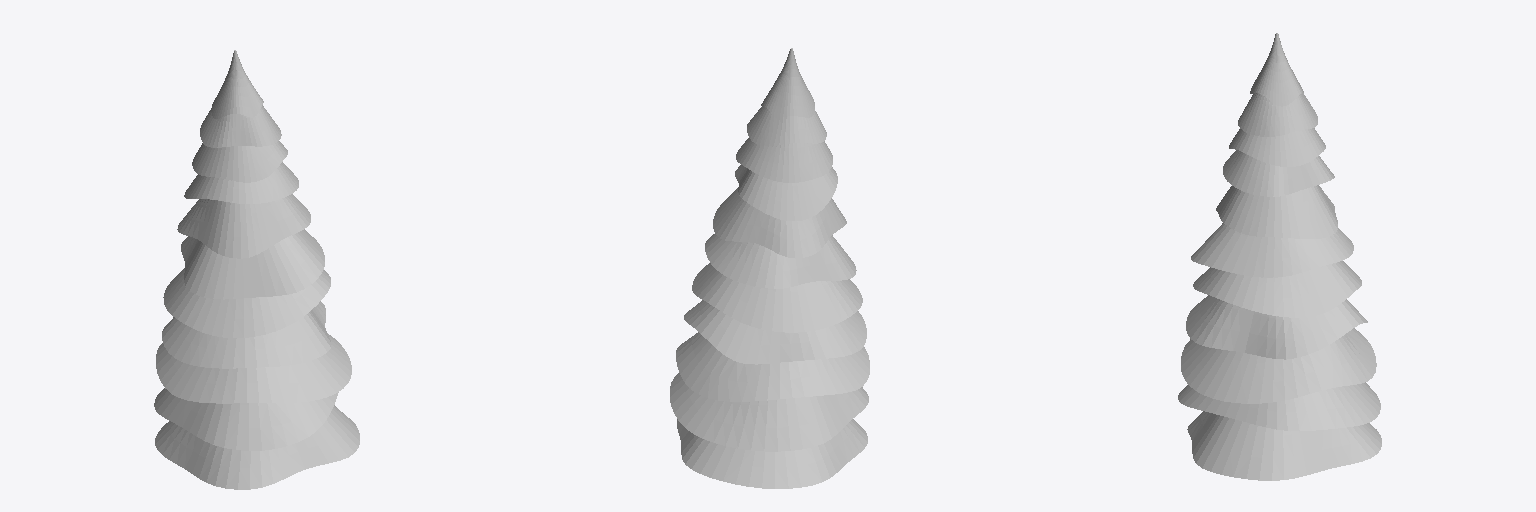
Rendered from pineTreeEdit.obj.
3 views of the same model, side by side, from view 1: azimuth 30°, elevation 25°; view 2: azimuth 150°, elevation 25°; view 3: azimuth 270°, elevation 25° (orthographic).
Parts seen in each view (by area): view 1: pineTree; view 2: pineTree; view 3: pineTree.
Part boxes in pixels (x1,y1,x2,y2): pineTree: (154,50,359,489); pineTree: (670,48,869,488); pineTree: (1178,33,1381,480).
Size of the model in its own units: 54.67 by 124 by 54.12.